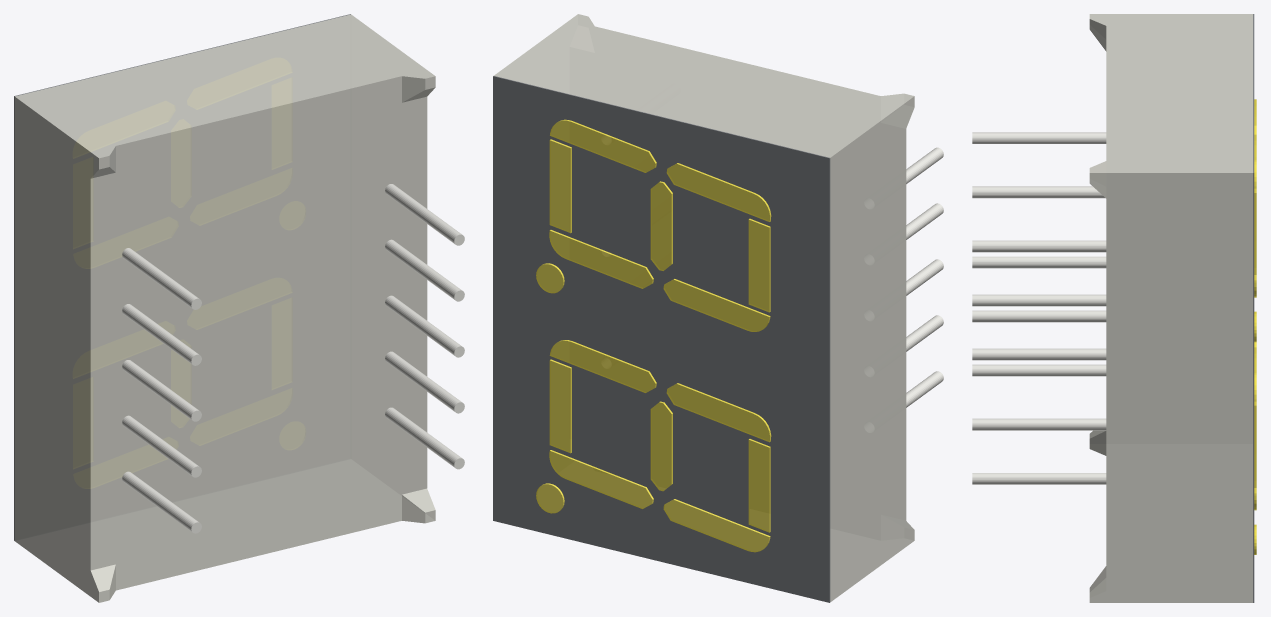
Rendered from ELD_426XXXX.glb.
3 renders of one model, left to right at view 1: azimuth 30°, elevation 25°; view 2: azimuth 150°, elevation 25°; view 3: azimuth 270°, elevation 25°, orthographic. The views are drawn at different scales.
Parts seen in each view (by area): view 1: Shape_IndexedFaceSet.002, Shape_IndexedFaceSet.023, Shape_IndexedFaceSet.026, Shape_IndexedFaceSet.005, Shape_IndexedFaceSet.004, Shape_IndexedFaceSet.006, Shape_IndexedFaceSet.003, Shape_IndexedFaceSet.007, Shape_IndexedFaceSet.008, Shape_IndexedFaceSet.012, Shape_IndexedFaceSet.013, Shape_IndexedFaceSet.014 (+5 smaller); view 2: Shape_IndexedFaceSet.045, Shape_IndexedFaceSet.023, Shape_IndexedFaceSet.026, Shape_IndexedFaceSet.142, Shape_IndexedFaceSet.150, Shape_IndexedFaceSet.145, Shape_IndexedFaceSet.151, Shape_IndexedFaceSet.143, Shape_IndexedFaceSet.148, Shape_IndexedFaceSet.153, Shape_IndexedFaceSet.140, Shape_IndexedFaceSet.141 (+8 smaller); view 3: Shape_IndexedFaceSet.019, Shape_IndexedFaceSet.026, Shape_IndexedFaceSet.013, Shape_IndexedFaceSet.001, Shape_IndexedFaceSet.007, Shape_IndexedFaceSet.008, Shape_IndexedFaceSet.011, Shape_IndexedFaceSet.012, Shape_IndexedFaceSet.015, Shape_IndexedFaceSet.010, Shape_IndexedFaceSet.009, Shape_IndexedFaceSet.014 (+1 smaller).
Part boxes in pixels (x1,y1,x2,y2): Shape_IndexedFaceSet.002: (116,103,401,564); Shape_IndexedFaceSet.023: (14,97,98,602); Shape_IndexedFaceSet.026: (15,14,435,158); Shape_IndexedFaceSet.005: (90,172,115,570); Shape_IndexedFaceSet.004: (402,96,427,494); Shape_IndexedFaceSet.006: (116,76,401,172); Shape_IndexedFaceSet.003: (116,494,401,590); Shape_IndexedFaceSet.007: (122,471,198,531); Shape_IndexedFaceSet.008: (122,415,198,476); Shape_IndexedFaceSet.012: (385,295,461,355); Shape_IndexedFaceSet.013: (385,351,461,411); Shape_IndexedFaceSet.014: (385,407,461,467); Shape_IndexedFaceSet.045: (493,76,829,602); Shape_IndexedFaceSet.023: (830,96,914,601); Shape_IndexedFaceSet.026: (494,14,914,157); Shape_IndexedFaceSet.142: (663,279,769,331); Shape_IndexedFaceSet.150: (550,120,655,172); Shape_IndexedFaceSet.145: (549,340,655,392); Shape_IndexedFaceSet.151: (549,451,652,508); Shape_IndexedFaceSet.143: (549,231,652,288); Shape_IndexedFaceSet.148: (666,163,769,221); Shape_IndexedFaceSet.153: (663,500,769,552); Shape_IndexedFaceSet.140: (666,384,769,442); Shape_IndexedFaceSet.141: (748,219,769,312); Shape_IndexedFaceSet.019: (1089,173,1252,602); Shape_IndexedFaceSet.026: (1089,14,1252,172); Shape_IndexedFaceSet.013: (972,418,1106,430); Shape_IndexedFaceSet.001: (972,256,1106,268); Shape_IndexedFaceSet.007: (972,348,1106,360); Shape_IndexedFaceSet.008: (972,294,1106,306); Shape_IndexedFaceSet.011: (972,240,1106,252); Shape_IndexedFaceSet.012: (972,364,1106,376); Shape_IndexedFaceSet.015: (972,310,1106,322); Shape_IndexedFaceSet.010: (972,186,1105,198); Shape_IndexedFaceSet.009: (972,132,1106,143); Shape_IndexedFaceSet.014: (972,473,1106,484).
Bounding box in the file's own units: 6.3 × 7.95 × 4.76.
